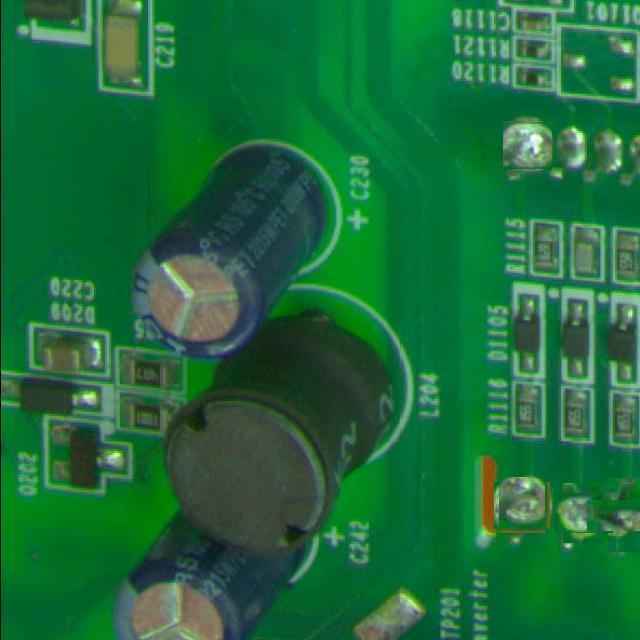lack_of_part: (496, 480, 548, 531), (558, 488, 608, 538), (504, 121, 552, 170), (597, 488, 640, 541)
